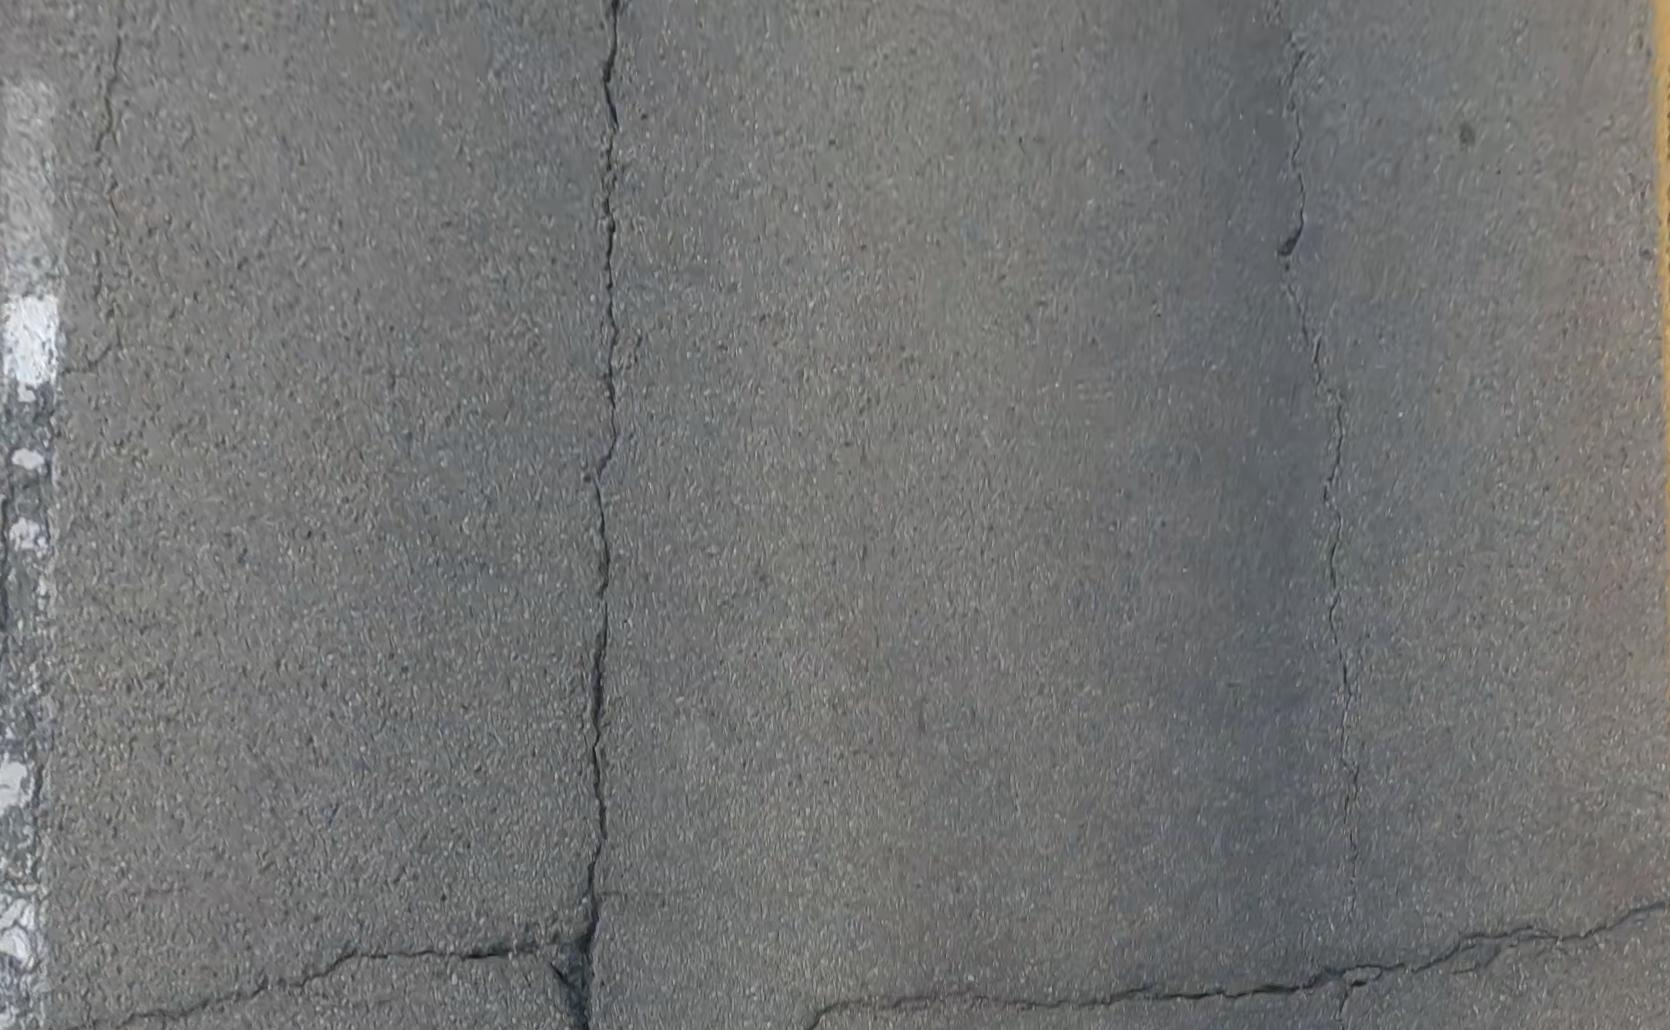pothole: (466, 892, 596, 1030)
